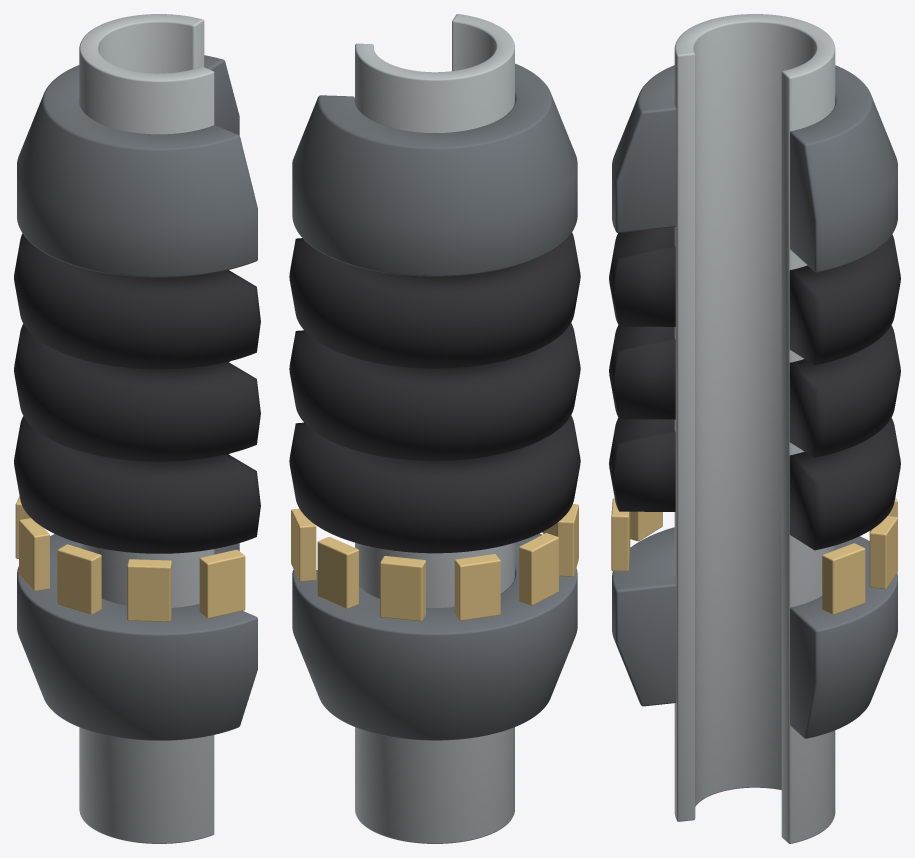
Rendered from packer.glb.
The picture shows the model from 3 angles, left to right: view 1: azimuth 30°, elevation 25°; view 2: azimuth 150°, elevation 25°; view 3: azimuth 270°, elevation 25°; orthographic projection.
Parts seen in each view (by area): view 1: Upper cone, Mandrel, Lower cone, Element 2, Element 1, Element 0, Slip 7, Slip 6, Slip 5, Slip 4; view 2: Upper cone, Lower cone, Mandrel, Element 1, Element 2, Element 0, Slip 3, Slip 2, Slip 1, Slip 4, Slip 0, Slip 5; view 3: Mandrel, Upper cone, Lower cone, Element 0, Element 1, Element 2, Slip 0, Slip 1, Slip 7, Slip 6.
Boxes of the visible parts, bbox=[...] form: Upper cone: bbox=[17, 55, 257, 277]; Mandrel: bbox=[79, 14, 214, 843]; Lower cone: bbox=[17, 534, 257, 740]; Element 2: bbox=[14, 416, 260, 553]; Element 1: bbox=[14, 324, 260, 461]; Element 0: bbox=[14, 233, 260, 369]; Slip 7: bbox=[199, 549, 245, 618]; Slip 6: bbox=[127, 559, 171, 622]; Slip 5: bbox=[57, 544, 101, 614]; Slip 4: bbox=[19, 518, 49, 591]; Upper cone: bbox=[292, 63, 577, 276]; Lower cone: bbox=[292, 533, 577, 740]; Mandrel: bbox=[355, 14, 514, 843]; Element 1: bbox=[289, 323, 580, 460]; Element 2: bbox=[289, 415, 580, 553]; Element 0: bbox=[289, 232, 580, 368]; Slip 3: bbox=[454, 554, 500, 620]; Slip 2: bbox=[380, 556, 425, 621]; Slip 1: bbox=[317, 537, 358, 608]; Slip 4: bbox=[519, 533, 558, 605]; Slip 0: bbox=[291, 508, 316, 581]; Slip 5: bbox=[557, 504, 578, 576]; Mandrel: bbox=[674, 14, 835, 843]; Upper cone: bbox=[612, 65, 897, 272]; Lower cone: bbox=[612, 527, 897, 738]; Element 0: bbox=[609, 227, 900, 365]; Element 1: bbox=[609, 325, 900, 457]; Element 2: bbox=[609, 418, 900, 550]; Slip 0: bbox=[822, 543, 865, 614]; Slip 1: bbox=[869, 516, 897, 589]; Slip 7: bbox=[611, 498, 630, 571]; Slip 6: bbox=[630, 511, 662, 541].
Size of the model in its own units: 1.9 by 5.8 by 2.
